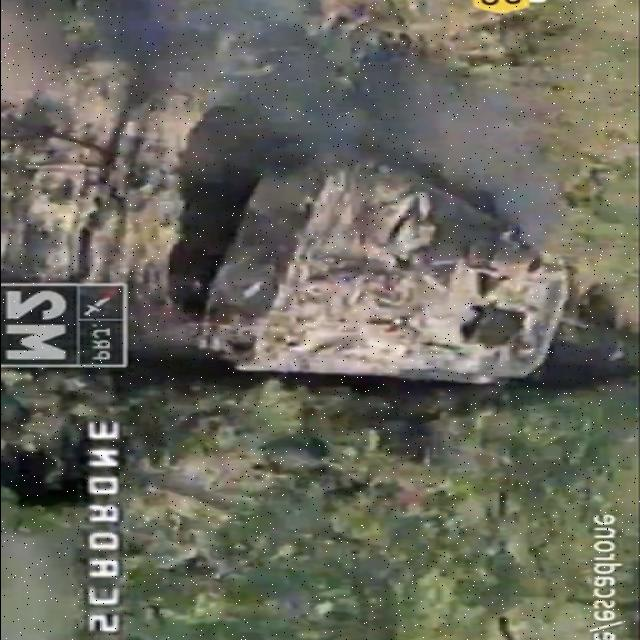APC-IFV: (200, 147, 580, 400)
